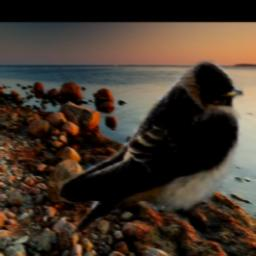Swallow: (58, 61, 244, 239)
